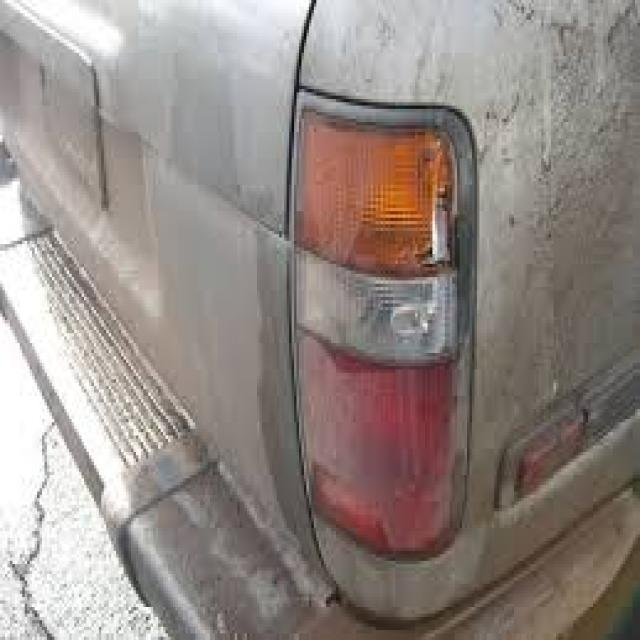damaged-tail-light: (290, 93, 479, 566)
